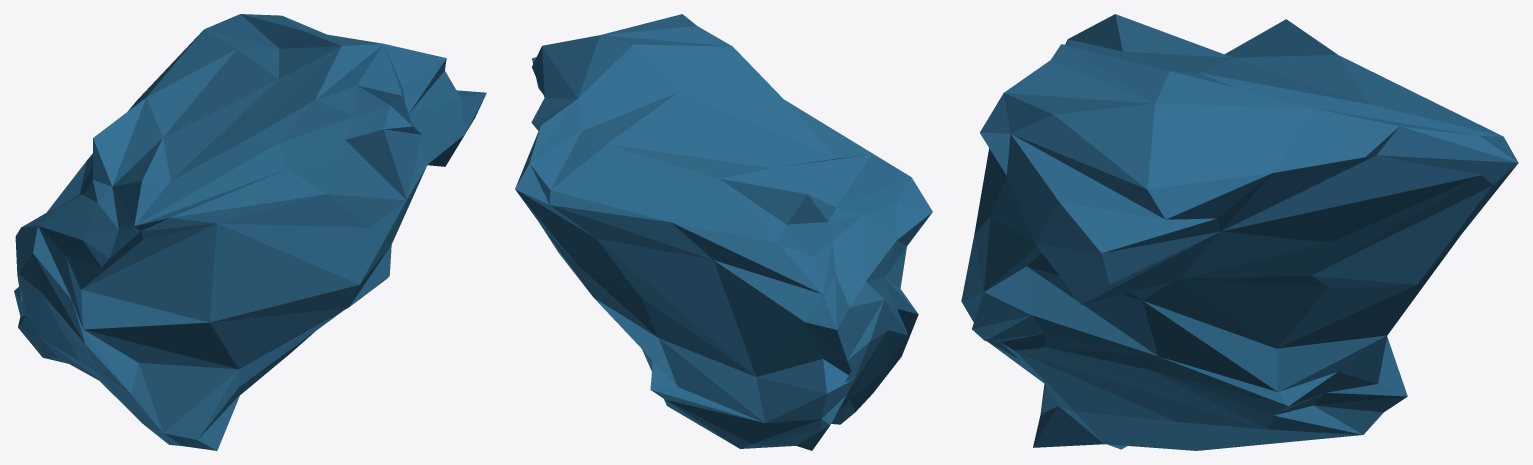
The model's file is rock016.FBX.
The picture shows the model from 3 angles, left to right: view 1: azimuth 30°, elevation 25°; view 2: azimuth 150°, elevation 25°; view 3: azimuth 270°, elevation 25°; orthographic projection. The views are drawn at different scales.
Parts seen in each view (by area): view 1: rock_016; view 2: rock_016; view 3: rock_016.
Boxes of the visible parts, x1,y1,x2,y2 form: rock_016: (14,14,486,450); rock_016: (515,14,932,450); rock_016: (961,14,1518,450).
Bounding box in the file's own units: 14.56 × 11.83 × 11.52.
